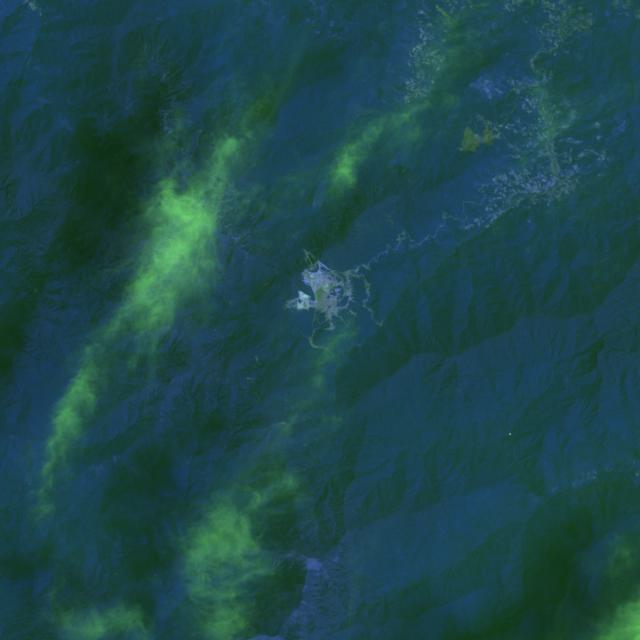landslides: (161, 56, 185, 82), (209, 175, 239, 194), (163, 107, 189, 123), (206, 193, 233, 206), (232, 231, 252, 244), (143, 225, 160, 238), (159, 87, 179, 98), (68, 180, 79, 197), (199, 186, 222, 194), (168, 127, 189, 134), (220, 195, 236, 204), (435, 6, 447, 16), (103, 210, 112, 223), (211, 215, 224, 224), (240, 241, 256, 248)
